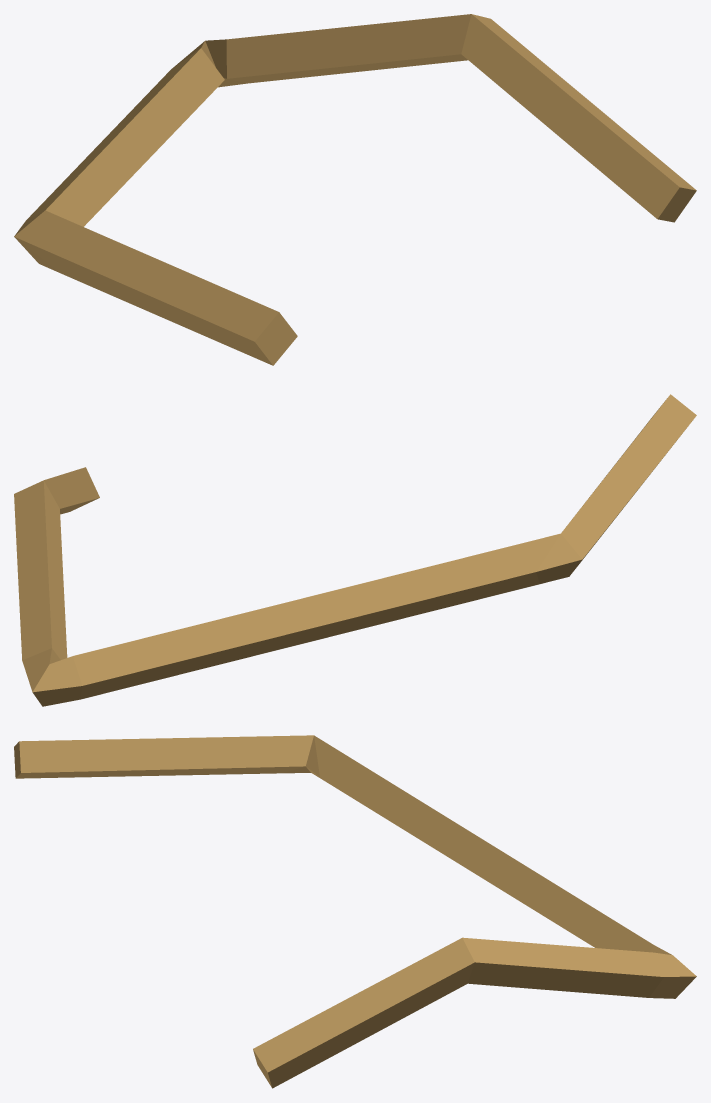
File: Detail_branch.002.fbx
3 renders of one model, top to bottom at view 1: azimuth 30°, elevation 25°; view 2: azimuth 150°, elevation 25°; view 3: azimuth 270°, elevation 25°, orthographic. The views are drawn at different scales.
Visible parts, largest first — view 1: Detail_branch.002; view 2: Detail_branch.002; view 3: Detail_branch.002.
Part boxes in pixels (x1,y1,x2,y2): Detail_branch.002: (14, 14, 696, 365); Detail_branch.002: (14, 394, 696, 706); Detail_branch.002: (14, 735, 696, 1088).
Bounding box in the file's own units: 1.47 × 0.3431 × 1.65.
